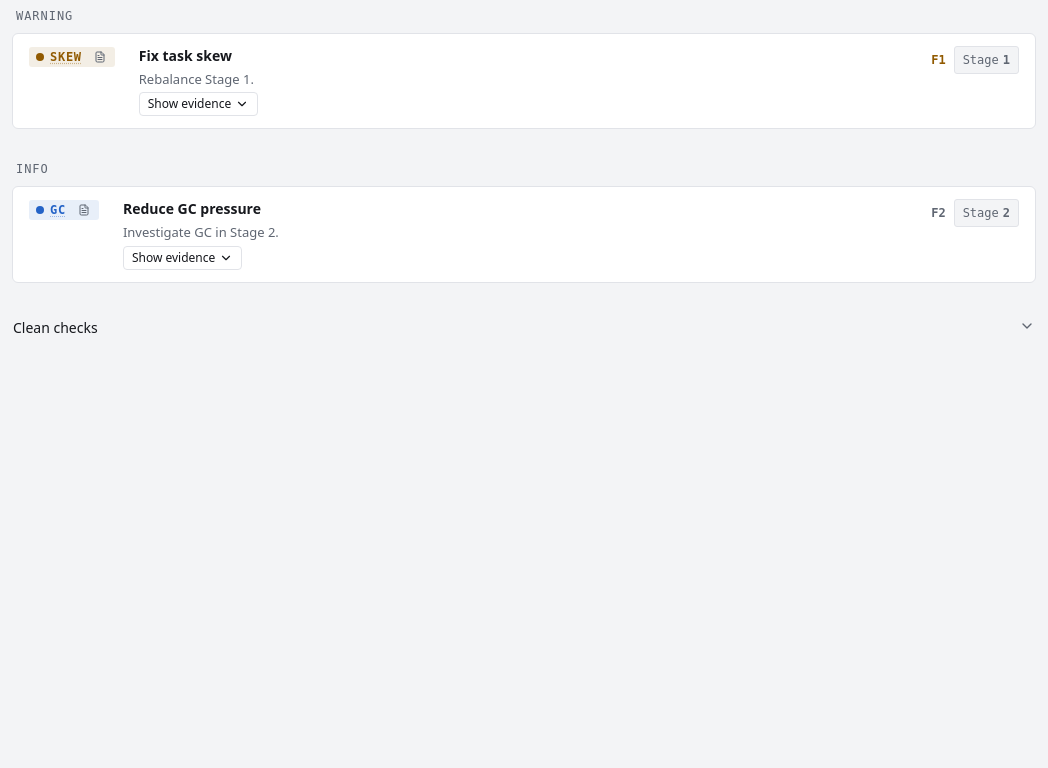
Test: ImpactBoard › renders a Warning heading with the warning row and a matching active widget card, and an Info heading separately
The width and height of the screenshot is (1048, 768).
Check: the text "Rebalance Stage 1." is shown, box [139,70,254,88]
Step 1. Click the button "Show evidence" below "Rebalance Stage 1." → (198, 104), box [139,92,258,116]
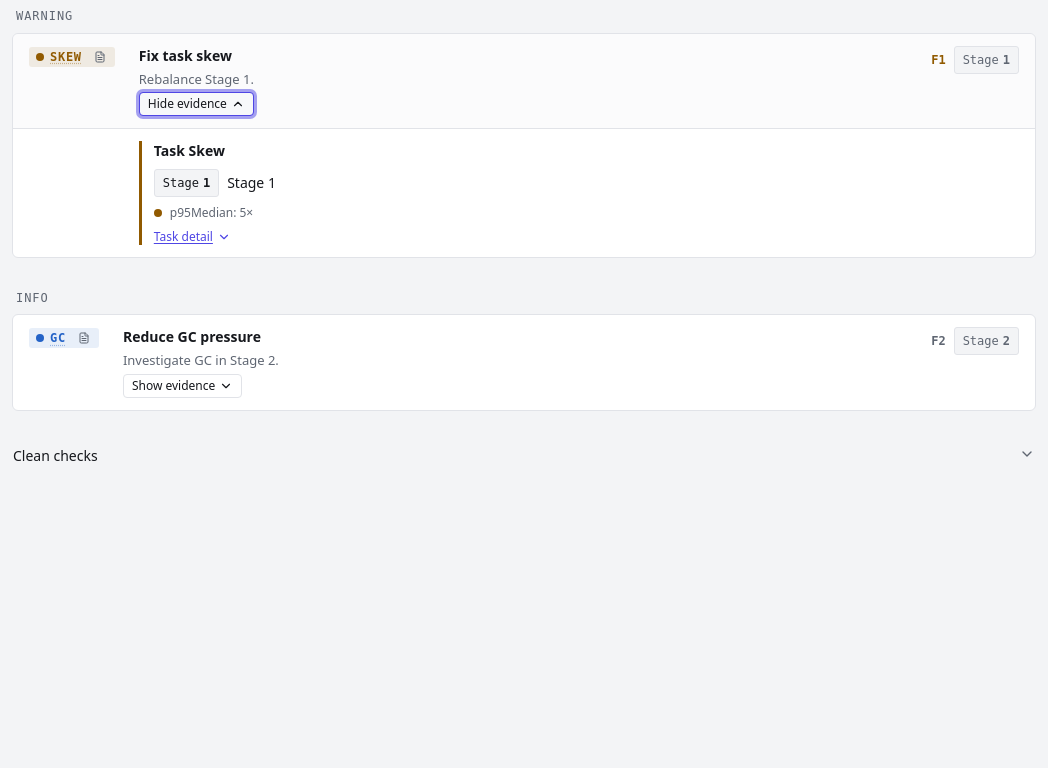
Check: the text "Investigate GC in Stage 2." is shown, box [123,351,279,369]
Check: the heading "Task Skew" is shown, box [154,141,225,161]
Step 2. Click the button "Show evidence" → (183, 386), box [123,374,242,398]
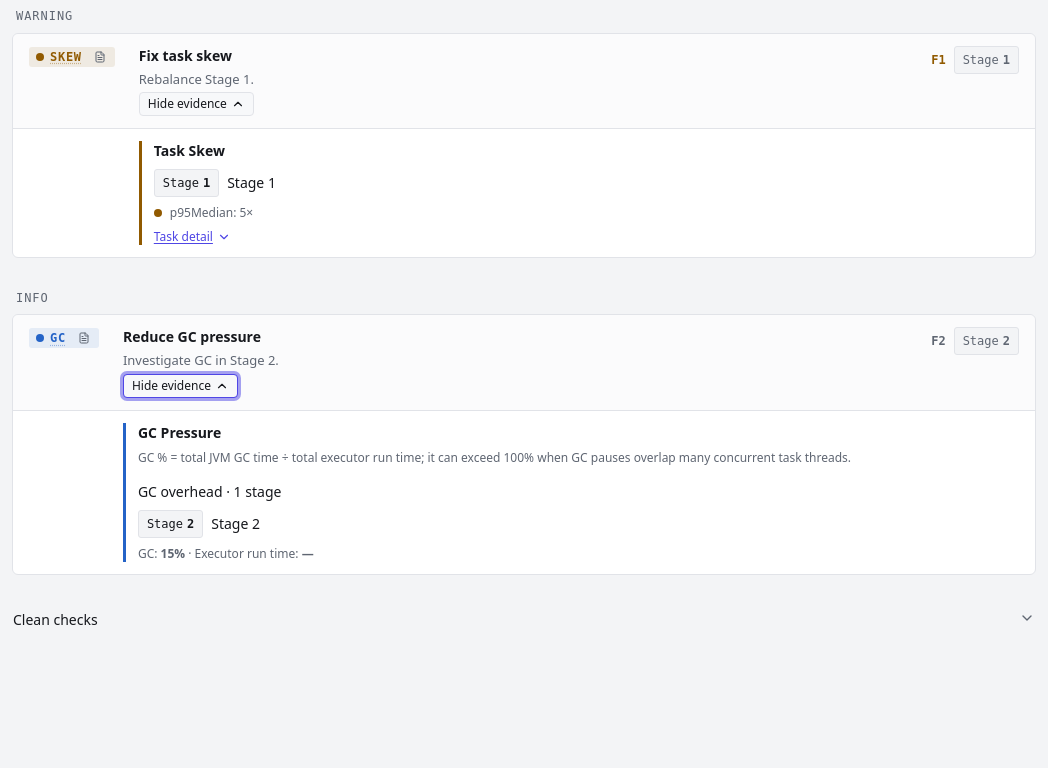
Check: the heading "GC Pressure" is shown, box [138,423,221,442]
